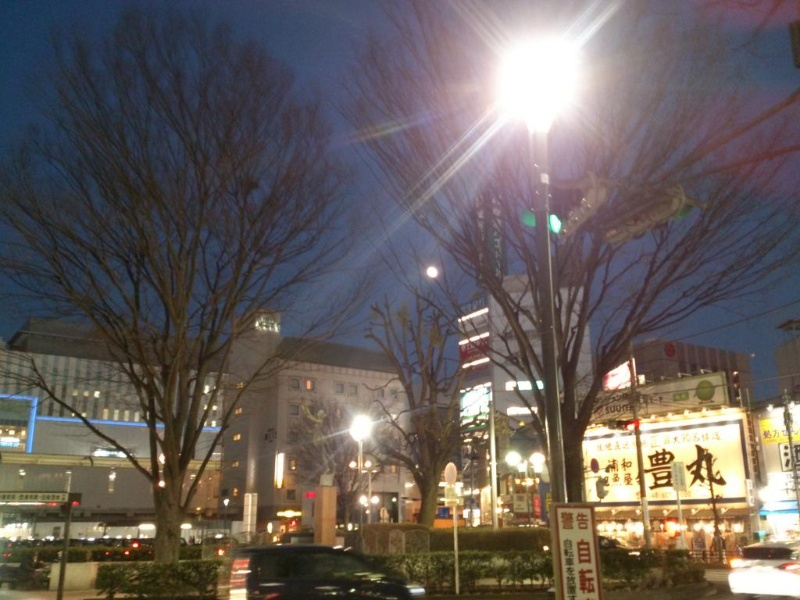green_light: (548, 206, 567, 244)
